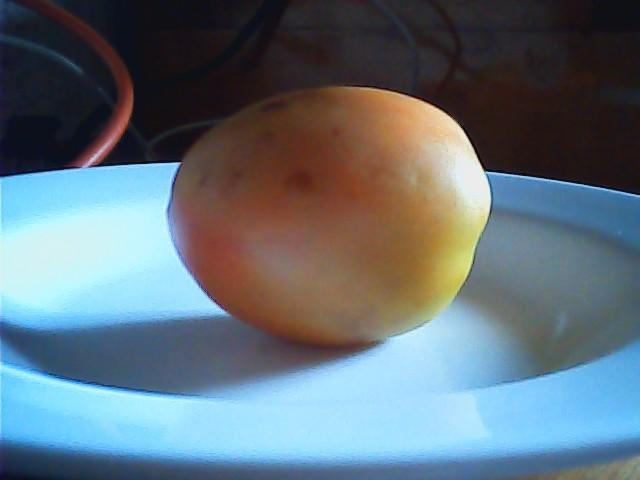verde: (162, 84, 494, 351)
